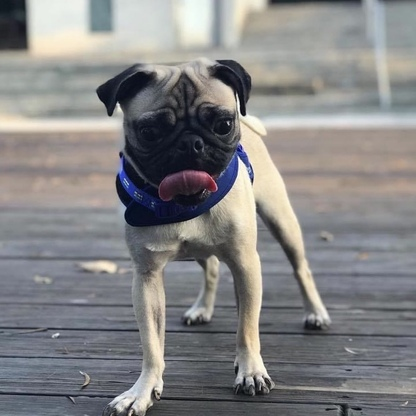Pug: (92, 54, 335, 414)
